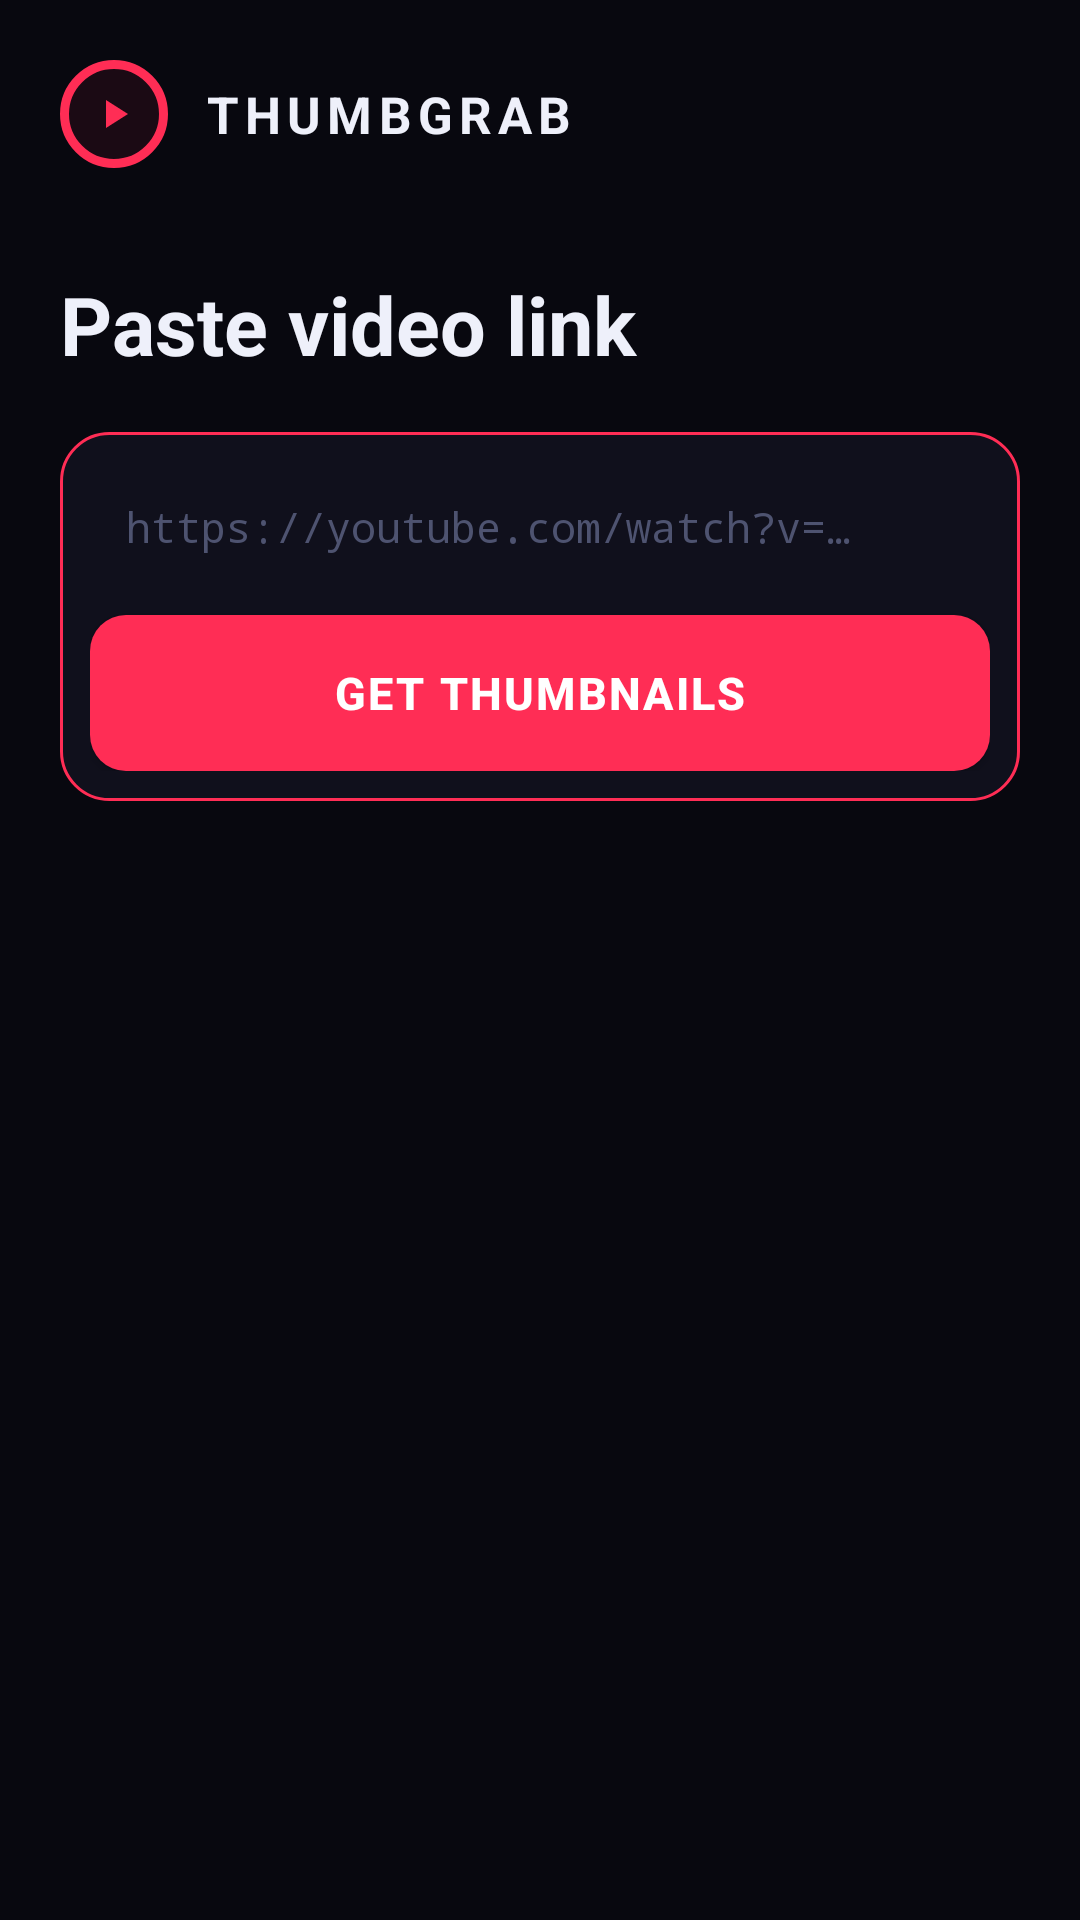

Named icons in this screenshot (1080 × 1920) and their centers, [x,y]:
play: [117,114]
